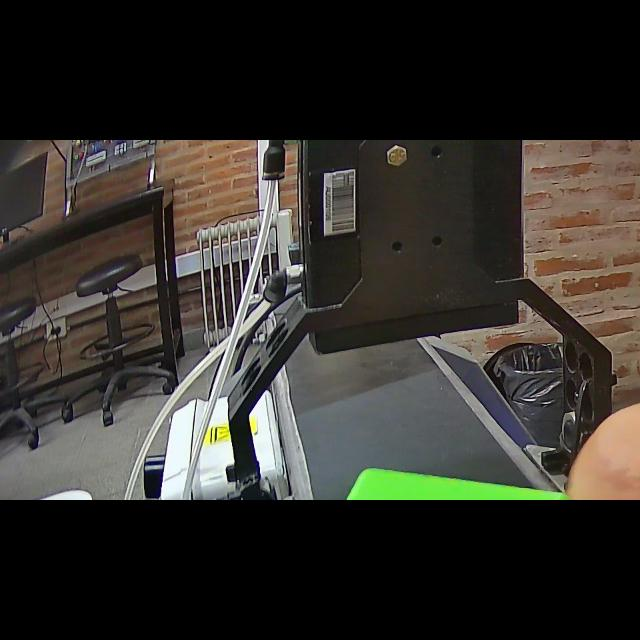greenBox: (316, 458, 600, 499)
